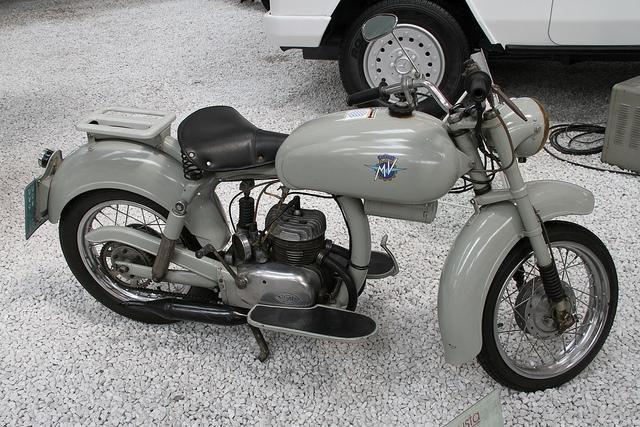car: (263, 0, 640, 103)
motorcycle: (20, 13, 621, 396)
